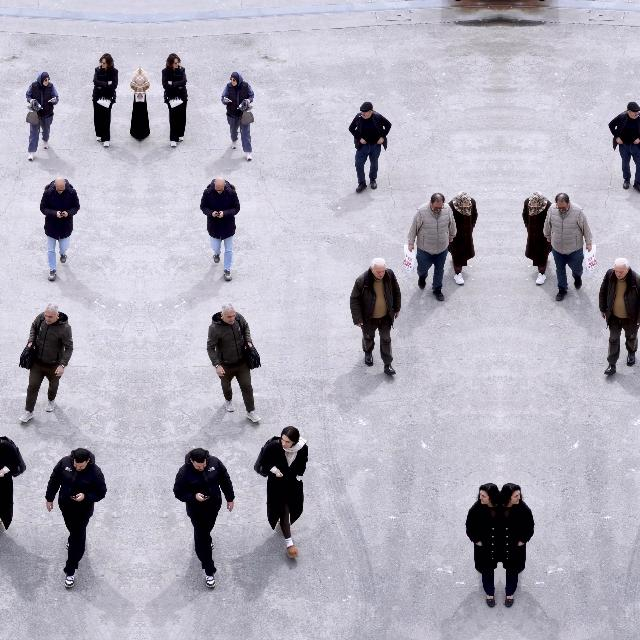person: (44, 448, 108, 588), (172, 448, 235, 588), (254, 426, 308, 558), (206, 303, 262, 423), (18, 303, 74, 423), (350, 258, 402, 376), (542, 192, 594, 302), (407, 192, 458, 302), (598, 257, 640, 376), (464, 483, 500, 609), (500, 483, 536, 609), (200, 177, 240, 281), (40, 177, 80, 281), (348, 102, 392, 194), (0, 425, 26, 558), (221, 71, 255, 161), (25, 71, 59, 161), (608, 102, 640, 194), (448, 191, 478, 285), (522, 191, 552, 285), (162, 52, 188, 148), (92, 52, 118, 148), (140, 65, 150, 142), (130, 65, 140, 142)
